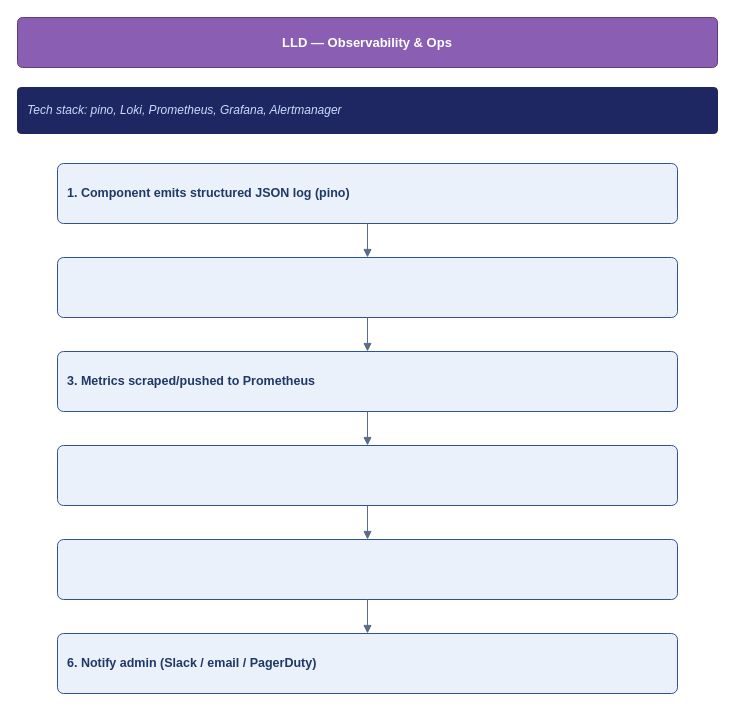
The diagram is 735 pixels wide and 711 high, and some of its shapes have lost their labels. The shapes that lost their labels are listed below. From the top down, each one's centre as x and y in pixels, then its label:
point 367,287: 2. Log shipped to Loki
point 367,475: 4. Grafana dashboards query Loki + Prometheus
point 367,569: 5. Alert rules evaluate (stuck job, auth failure, error rate)
